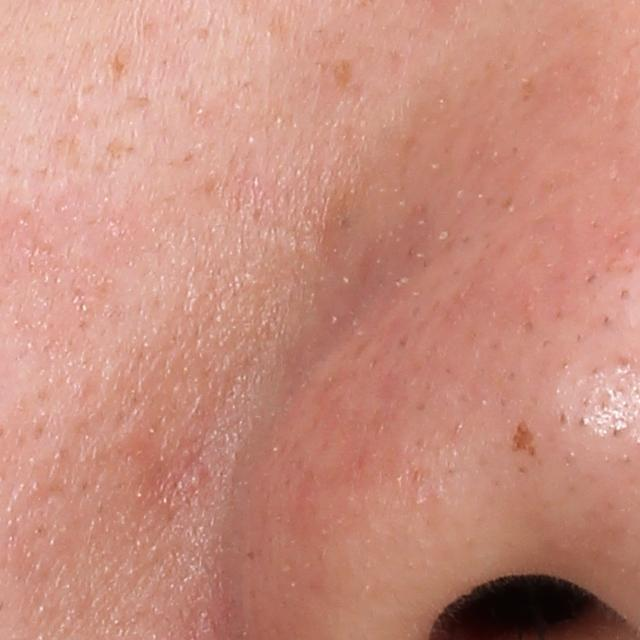melasma: (108, 45, 136, 81)
nevus: (510, 425, 535, 450)
